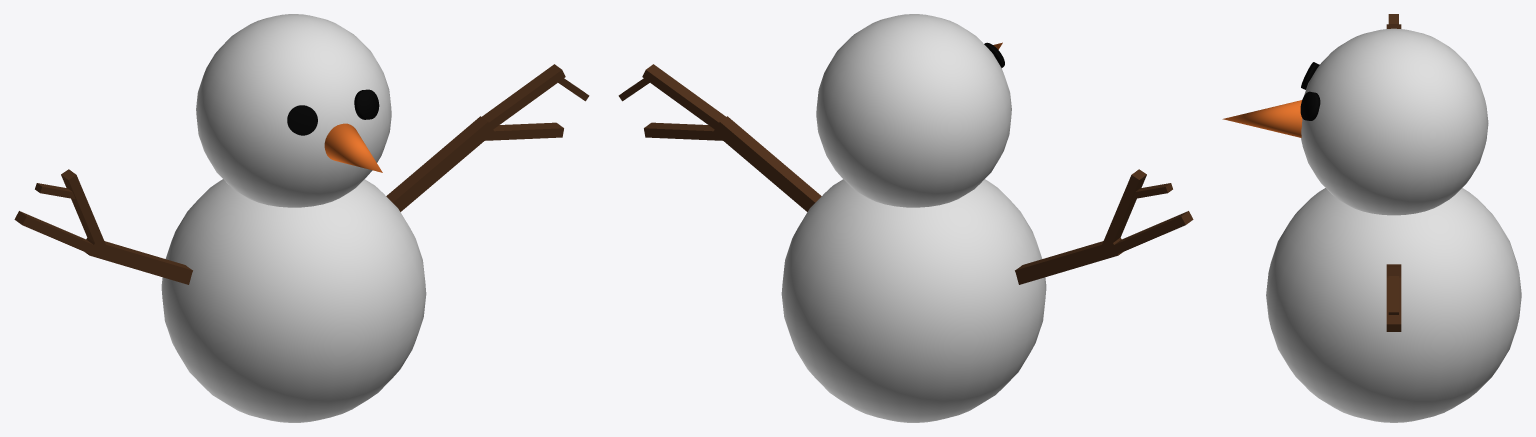
File: SnowMan.fbx
The picture shows the model from 3 angles, left to right: view 1: azimuth 30°, elevation 25°; view 2: azimuth 150°, elevation 25°; view 3: azimuth 270°, elevation 25°; orthographic projection. The views are drawn at different scales.
Parts seen in each view (by area): view 1: Sphere, Cube, Cube.001, Cone, Cylinder; view 2: Sphere, Cube, Cube.001; view 3: Sphere, Cone, Cube, Cylinder.
Part boxes in pixels (box(x1,y1,x2,y2)): Sphere: box(161, 14, 426, 422); Cube: box(386, 64, 589, 211); Cube.001: box(14, 169, 192, 284); Cone: box(324, 123, 382, 172); Cylinder: box(287, 89, 379, 135); Sphere: box(781, 14, 1046, 422); Cube: box(618, 64, 821, 211); Cube.001: box(1015, 169, 1193, 284); Sphere: box(1266, 28, 1521, 422); Cone: box(1222, 100, 1302, 137); Cube: box(1386, 264, 1401, 331); Cylinder: box(1300, 62, 1320, 120).
Bounding box in the file's own units: 495 × 322 × 234.
